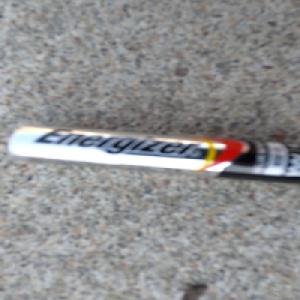Battery: (3, 123, 300, 184)
